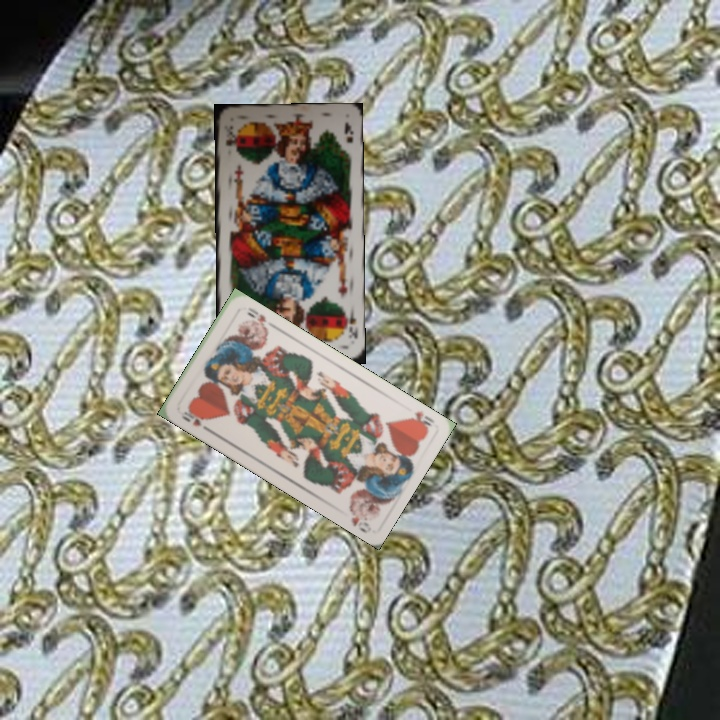HO: (177, 404, 213, 434), (404, 407, 437, 433)
SK: (340, 306, 360, 342), (222, 122, 237, 149)
